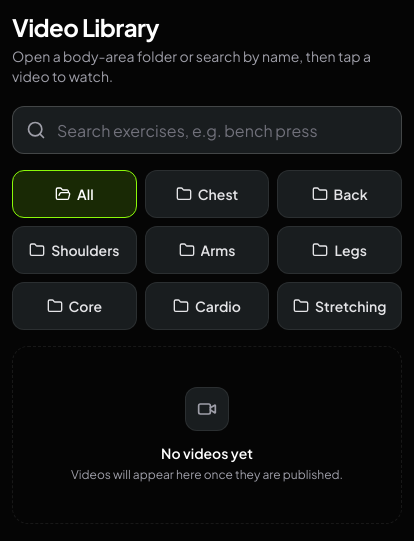
Test: Video Library: body-area folders › opening a folder filters by that muscle group and marks it selected
This screenshot has width=414, height=541.
Click the button "Chest" at coordinates (207, 194), box [145,170,269,218]
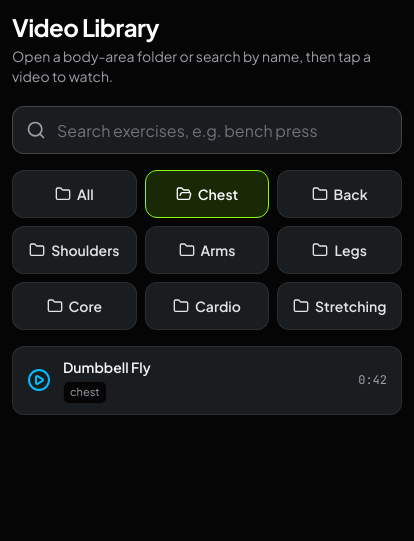
Result: the text "Dumbbell Fly" is shown at [63,358,151,376]
